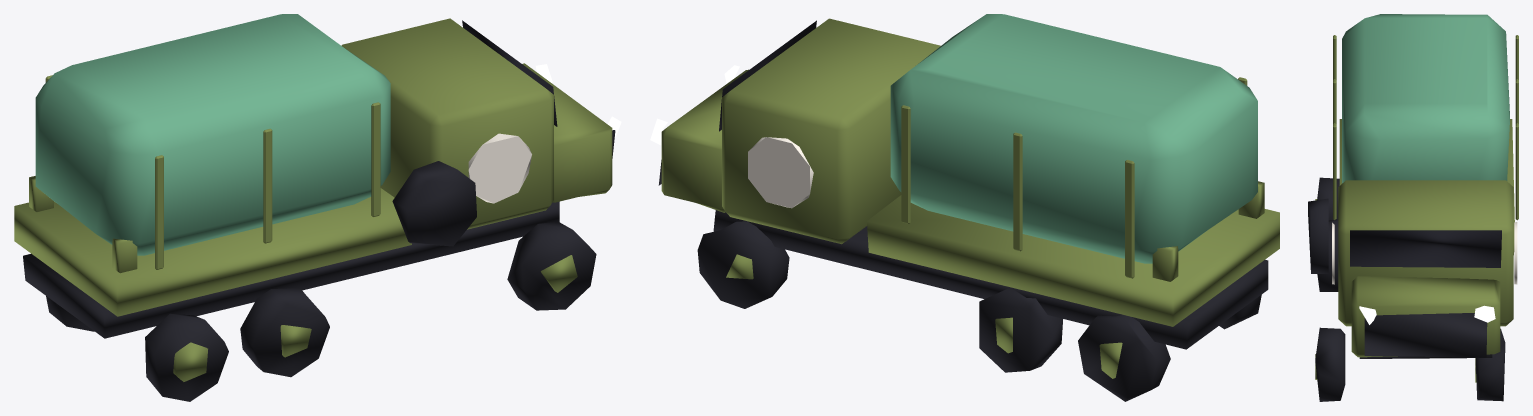
The model's file is army_truck.glb.
3 views of the same model, side by side, from view 1: azimuth 30°, elevation 25°; view 2: azimuth 150°, elevation 25°; view 3: azimuth 270°, elevation 25° (orthographic). The views are drawn at different scales.
Parts seen in each view (by area): view 1: army_truck; view 2: army_truck; view 3: army_truck.
Part boxes in pixels (bbox=[...]): army_truck: bbox=[14, 14, 621, 401]; army_truck: bbox=[650, 14, 1279, 401]; army_truck: bbox=[1308, 14, 1518, 401].
Bounding box in the file's own units: 7.19 × 3.54 × 3.03.
Materials: 1 (1 with a texture image).
